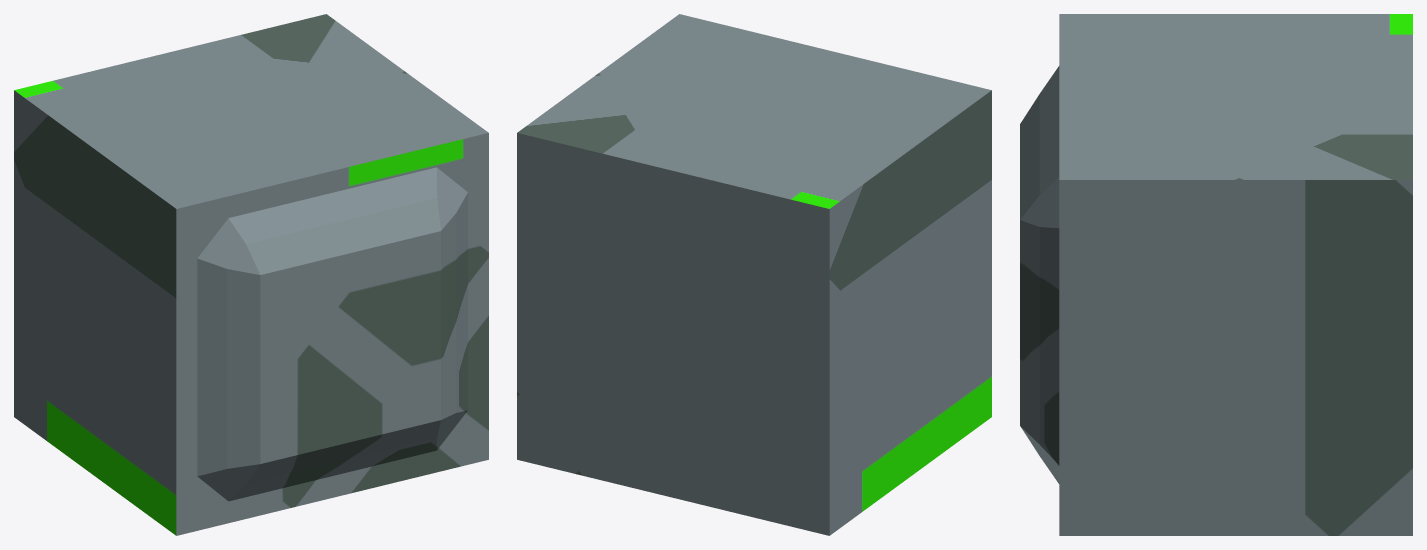
The model's file is FillerNoStack.fbx.
3 views of the same model, side by side, from view 1: azimuth 30°, elevation 25°; view 2: azimuth 150°, elevation 25°; view 3: azimuth 270°, elevation 25° (orthographic). The views are drawn at different scales.
Visible parts, largest first — view 1: geo1; view 2: geo1; view 3: geo1.
Part boxes in pixels (box(x1,y1,x2,y2)): geo1: box(14, 14, 488, 535); geo1: box(517, 14, 991, 535); geo1: box(1020, 14, 1412, 535).
Bounding box in the file's own units: 3 × 3 × 3.
